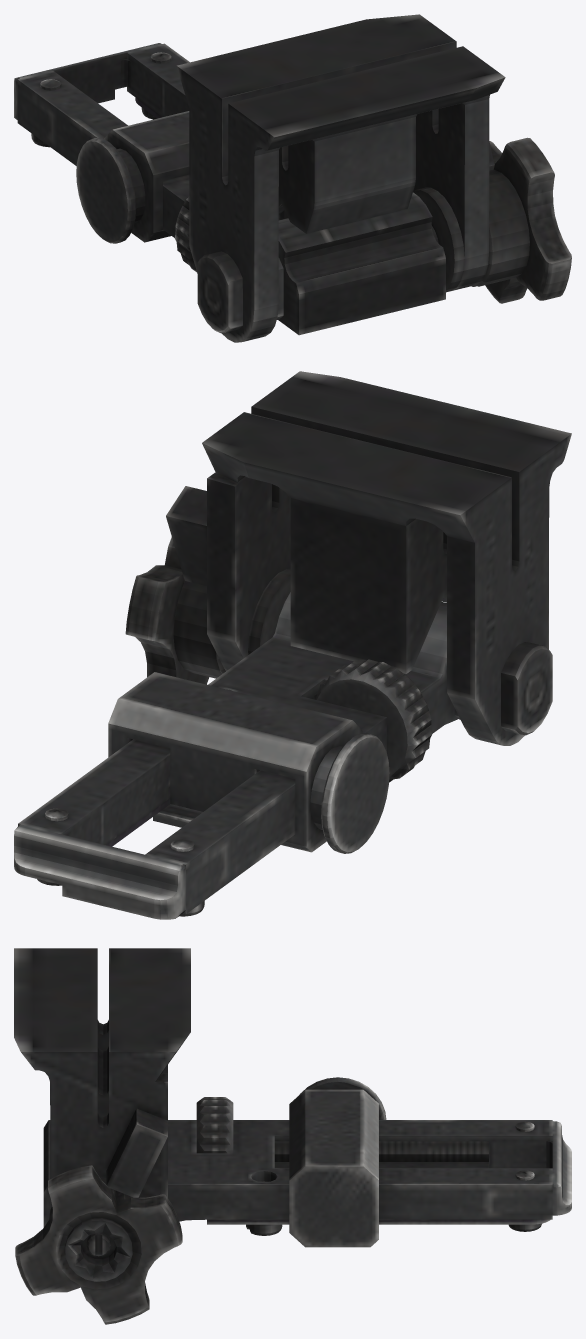
3 renders of one model, top to bottom at view 1: azimuth 30°, elevation 25°; view 2: azimuth 150°, elevation 25°; view 3: azimuth 270°, elevation 25°, orthographic. The views are drawn at different scales.
Parts seen in each view (by area): view 1: TW_6601265f98a610c1aa0ea637_folded_PZ_Import; view 2: TW_6601265f98a610c1aa0ea637_folded_PZ_Import; view 3: TW_6601265f98a610c1aa0ea637_folded_PZ_Import.
Part boxes in pixels (x1=…): TW_6601265f98a610c1aa0ea637_folded_PZ_Import: x1=14, y1=14, x2=571, y2=342; TW_6601265f98a610c1aa0ea637_folded_PZ_Import: x1=14, y1=371, x2=571, y2=919; TW_6601265f98a610c1aa0ea637_folded_PZ_Import: x1=14, y1=948, x2=571, y2=1324.
Bounding box in the file's own units: 0.0253 × 0.0428 × 0.0208.
Materials: 1 (1 with a texture image).
